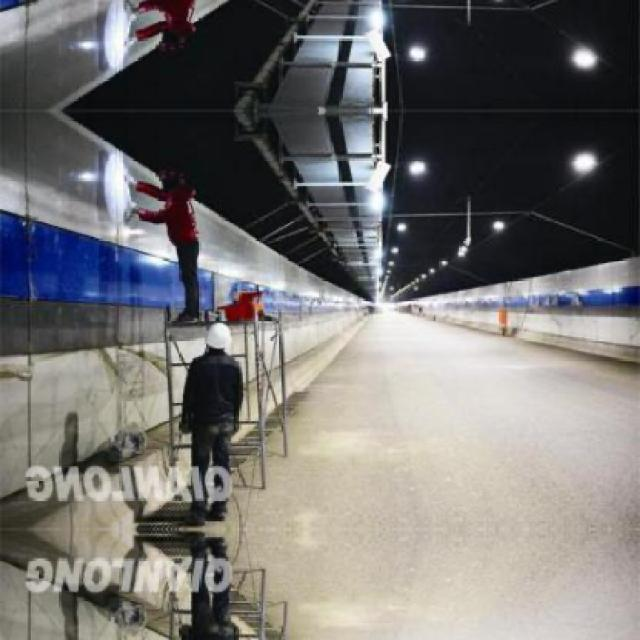helmet: (201, 318, 237, 357)
